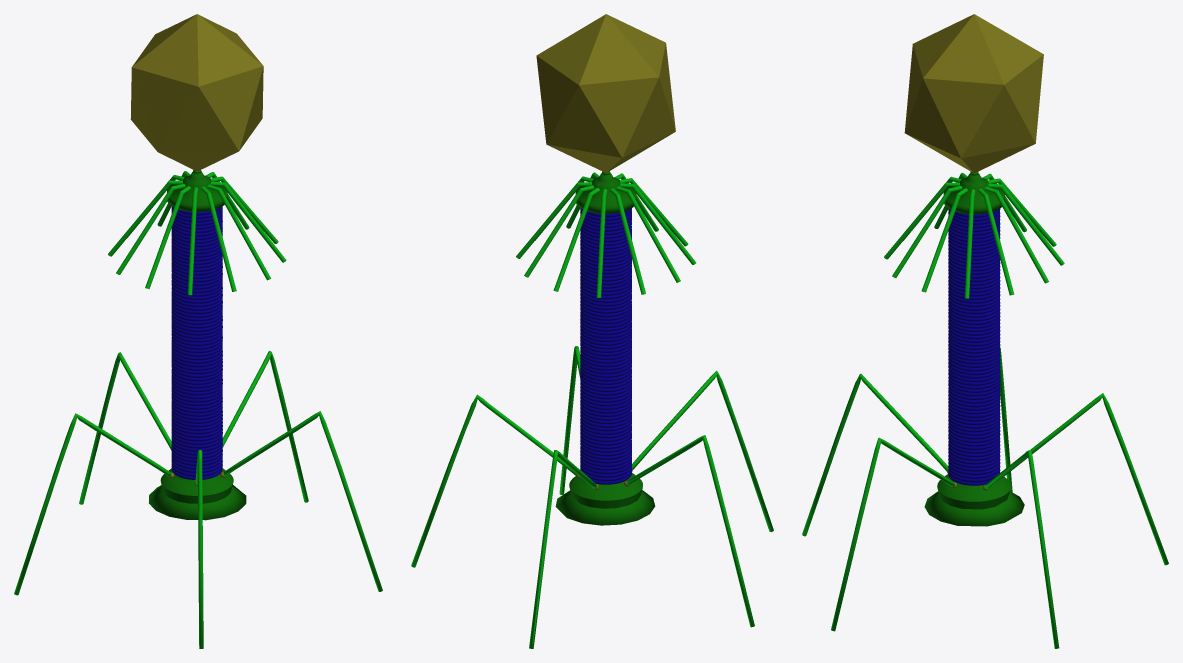
The model's file is sketchfab-bacteriophage-t4.glb.
3 views of the same model, side by side, from view 1: azimuth 30°, elevation 25°; view 2: azimuth 150°, elevation 25°; view 3: azimuth 270°, elevation 25° (orthographic).
Visible parts, largest first — view 1: Virus.001_1; view 2: Virus.001_1; view 3: Virus.001_1.
Part boxes in pixels (x1=…): Virus.001_1: x1=14, y1=14, x2=382, y2=648; Virus.001_1: x1=411, y1=14, x2=773, y2=648; Virus.001_1: x1=802, y1=14, x2=1168, y2=648.
Size of the model in its own units: 0.2185 by 0.3653 by 0.2164.
